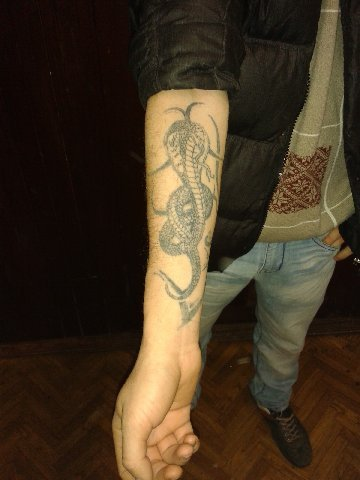tatu7_zmeya: (159, 119, 216, 300)
